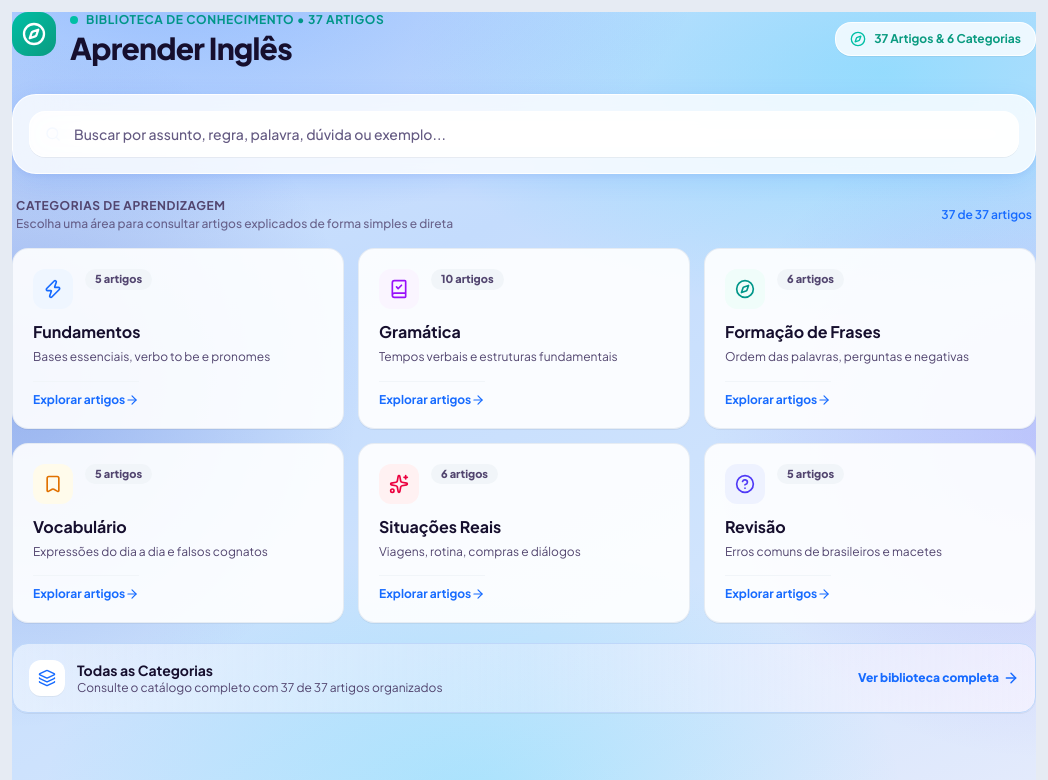
it: LearningLibraryView Component Tests › filters articles dynamically when typing in search input
In the search field with placeholder "Buscar por assunto, regra, palavra, dúvida ou exemplo...": [524, 134] box 29,111 -> 1019,157, type "falsos cognatos"
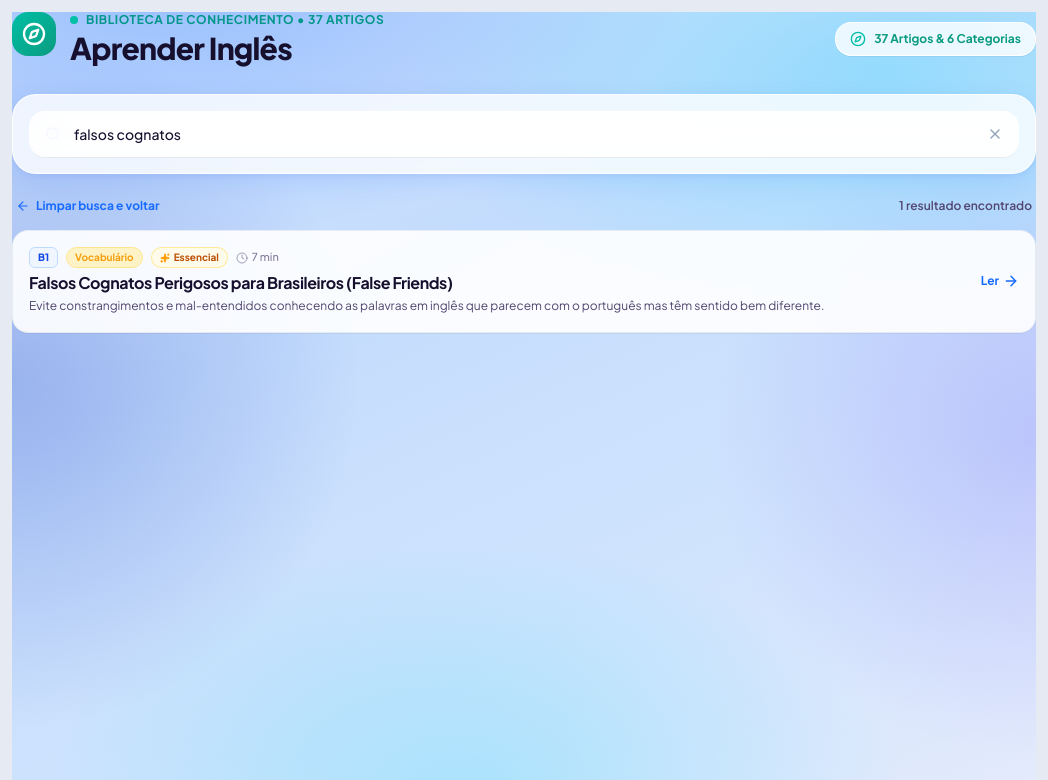
Expected: the heading "Falsos Cognatos Perigosos para Brasileiros (False Friends)" is shown, 29,272 -> 453,293
